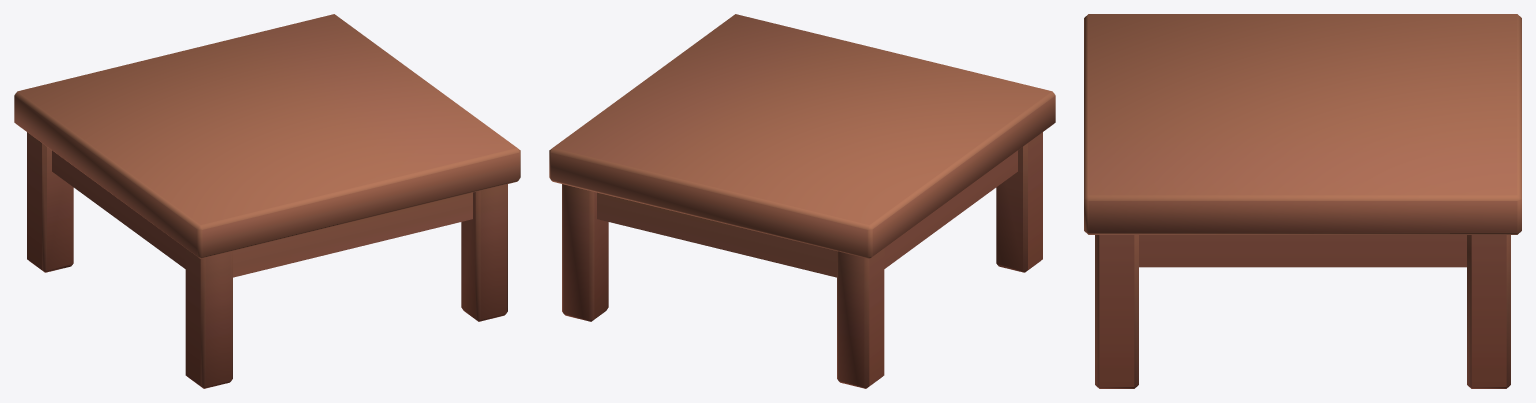
File: table.glb
3 views of the same model, side by side, from view 1: azimuth 30°, elevation 25°; view 2: azimuth 150°, elevation 25°; view 3: azimuth 270°, elevation 25° (orthographic). The views are drawn at different scales.
Parts seen in each view (by area): view 1: table_medium; view 2: table_medium; view 3: table_medium.
Boxes of the visible parts, x1,y1,x2,y2 form: table_medium: (14,14,520,388); table_medium: (549,14,1055,388); table_medium: (1084,14,1521,388).
Size of the model in its own units: 2 by 1 by 2.
Materials: 1 (1 with a texture image).
